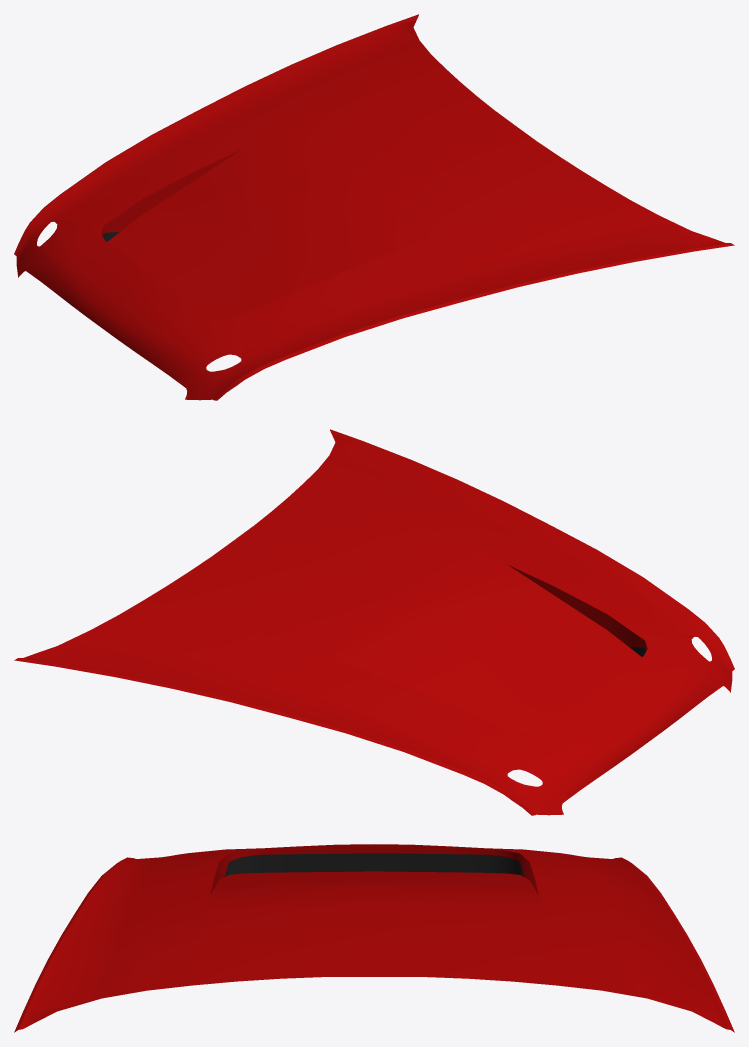
File: coche_cofre.obj
3 renders of one model, top to bottom at view 1: azimuth 30°, elevation 25°; view 2: azimuth 150°, elevation 25°; view 3: azimuth 270°, elevation 25°, orthographic. The views are drawn at different scales.
Parts seen in each view (by area): view 1: Capo_001; view 2: Capo_001; view 3: Capo_001.
Part boxes in pixels (left/top/right/bottom): Capo_001: left=14, top=14, right=734, bottom=400; Capo_001: left=14, top=429, right=734, bottom=815; Capo_001: left=14, top=844, right=734, bottom=1032.
Size of the model in its own units: 1.24 by 0.2794 by 1.43.
